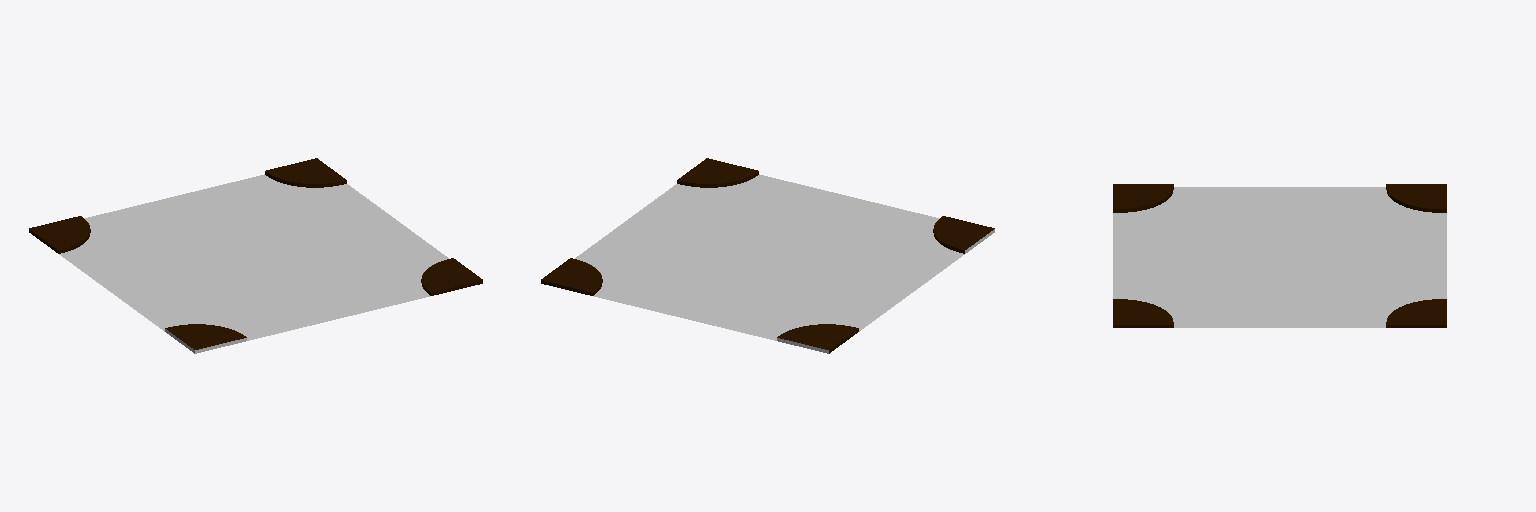
The model's file is 4way_new 1.obj.
3 views of the same model, side by side, from view 1: azimuth 30°, elevation 25°; view 2: azimuth 150°, elevation 25°; view 3: azimuth 270°, elevation 25° (orthographic).
Visible parts, largest first — view 1: 4way_low; view 2: 4way_low; view 3: 4way_low.
Boxes of the visible parts, <box> form: 4way_low: <box>29,158,482,353</box>; 4way_low: <box>541,158,994,353</box>; 4way_low: <box>1113,184,1446,327</box>.
Size of the model in its own units: 2 by 0.0236 by 2.